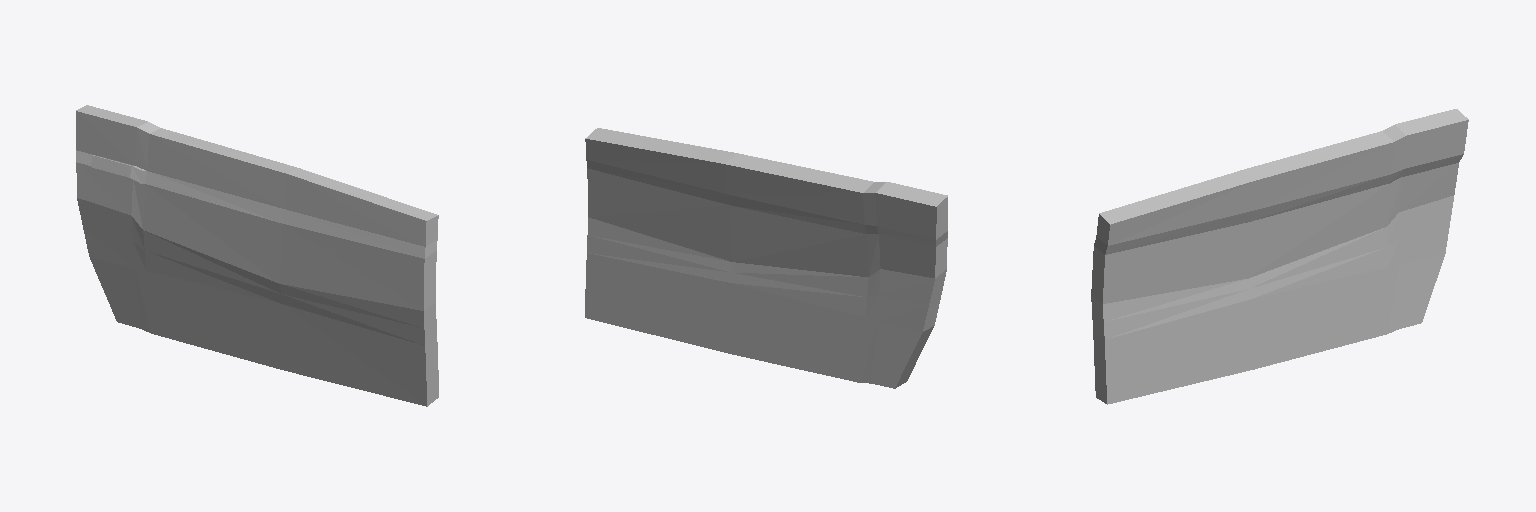
Rendered from Puerta Drch.obj.
The picture shows the model from 3 angles: view 1: azimuth 30°, elevation 25°; view 2: azimuth 210°, elevation 25°; view 3: azimuth 270°, elevation 25°; orthographic projection.
Parts seen in each view (by area): view 1: Puerta Drch; view 2: Puerta Drch; view 3: Puerta Drch.
Part boxes in pixels (x1,y1,x2,y2): Puerta Drch: (76,105,438,406); Puerta Drch: (585,128,947,388); Puerta Drch: (1091,109,1468,404).
Size of the model in its own units: 0.478 by 0.4798 by 0.7993.